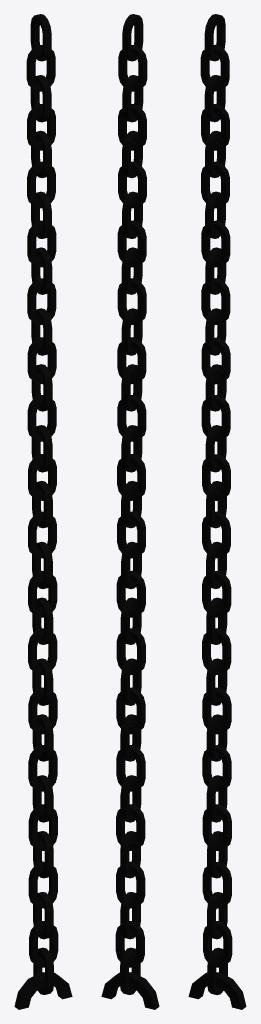
Rendered from Chain01.fbx.
3 renders of one model, left to right at view 1: azimuth 30°, elevation 25°; view 2: azimuth 150°, elevation 25°; view 3: azimuth 330°, elevation 25°, orthographic.
Visible parts, largest first — view 1: polySurface485; view 2: polySurface485; view 3: polySurface485.
Boxes of the visible parts, left/top/right/bottom form: polySurface485: left=14, top=14, right=72, bottom=1009; polySurface485: left=101, top=14, right=159, bottom=1009; polySurface485: left=188, top=14, right=246, bottom=1009.
Size of the model in its own units: 0.0646 by 1.14 by 0.0308.
Materials: 1 (1 with a texture image).
